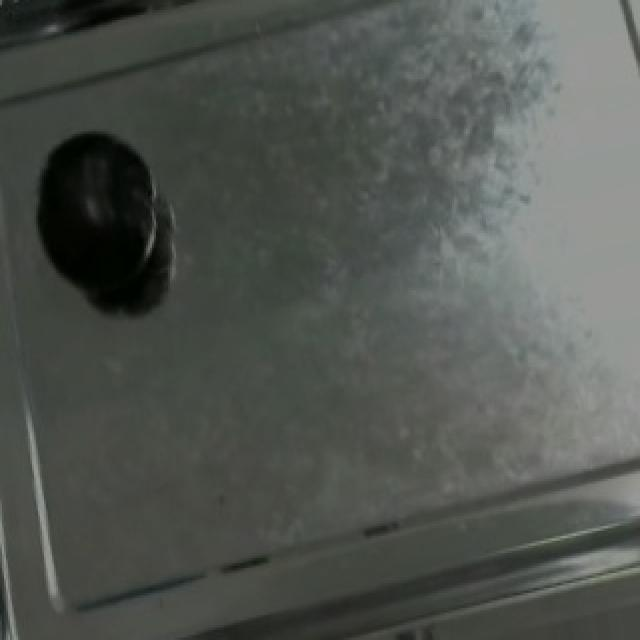Fruit: (16, 112, 170, 315)
